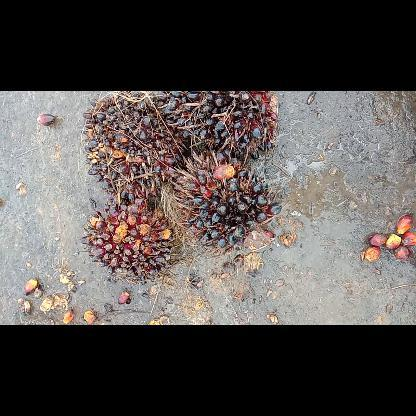TBS abnormal: (168, 148, 286, 254), (156, 92, 283, 166)
TBS masak: (81, 91, 191, 201), (78, 186, 184, 278)
